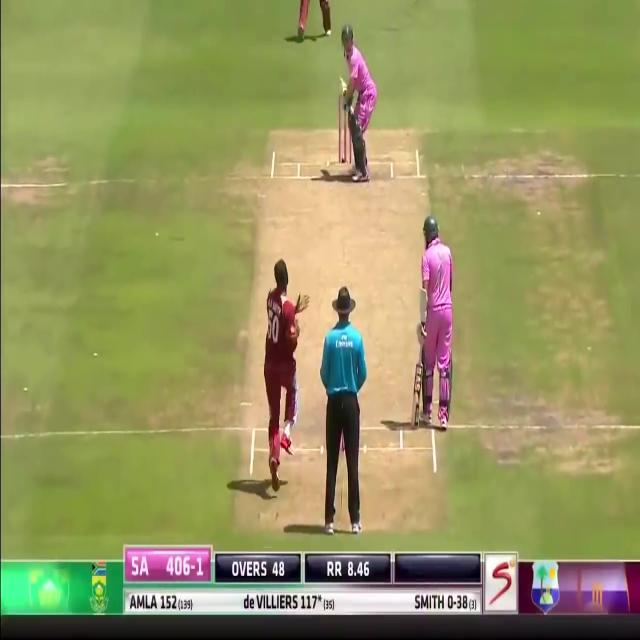Ball: (416, 218, 456, 429), (340, 24, 378, 182)
Fielder: (262, 259, 301, 452)
Umpire: (321, 286, 367, 540)
